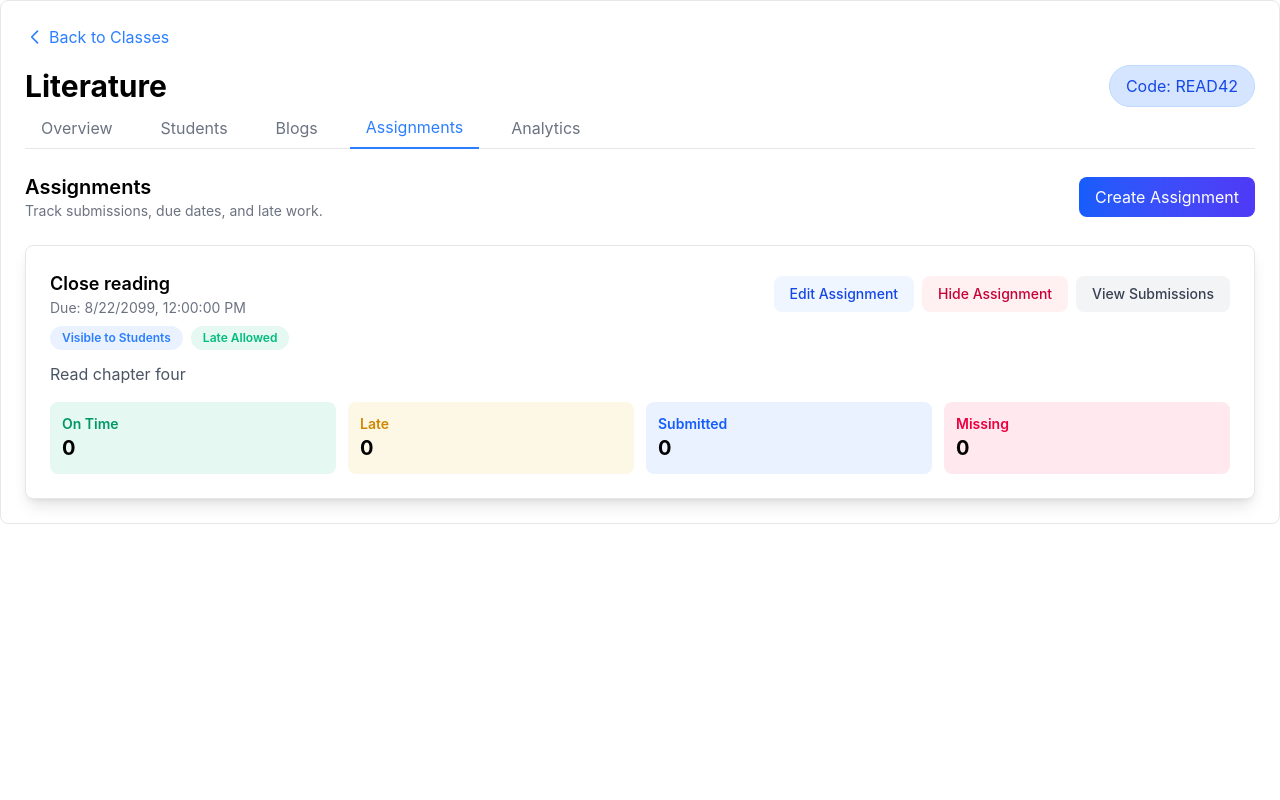
Test case: shows rich student media only in the teacher submission view
The image size is (1280, 800).
Check: the heading "Close reading" is shown, box x1=50 y1=273 x2=170 y2=294
Click the button "View Submissions": click(1153, 294) x1=1076 y1=276 x2=1230 y2=312
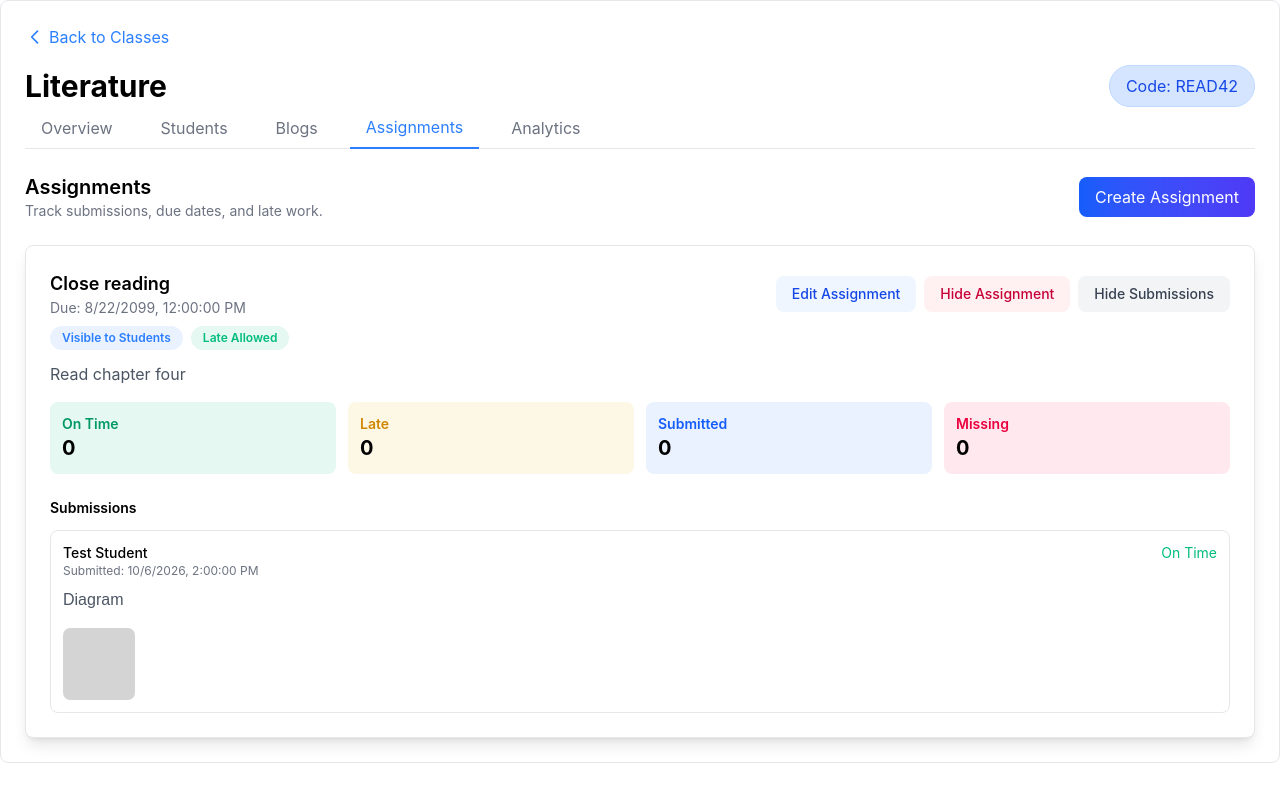
Check: the text "Diagram" is shown, box x1=63 y1=591 x2=124 y2=608
